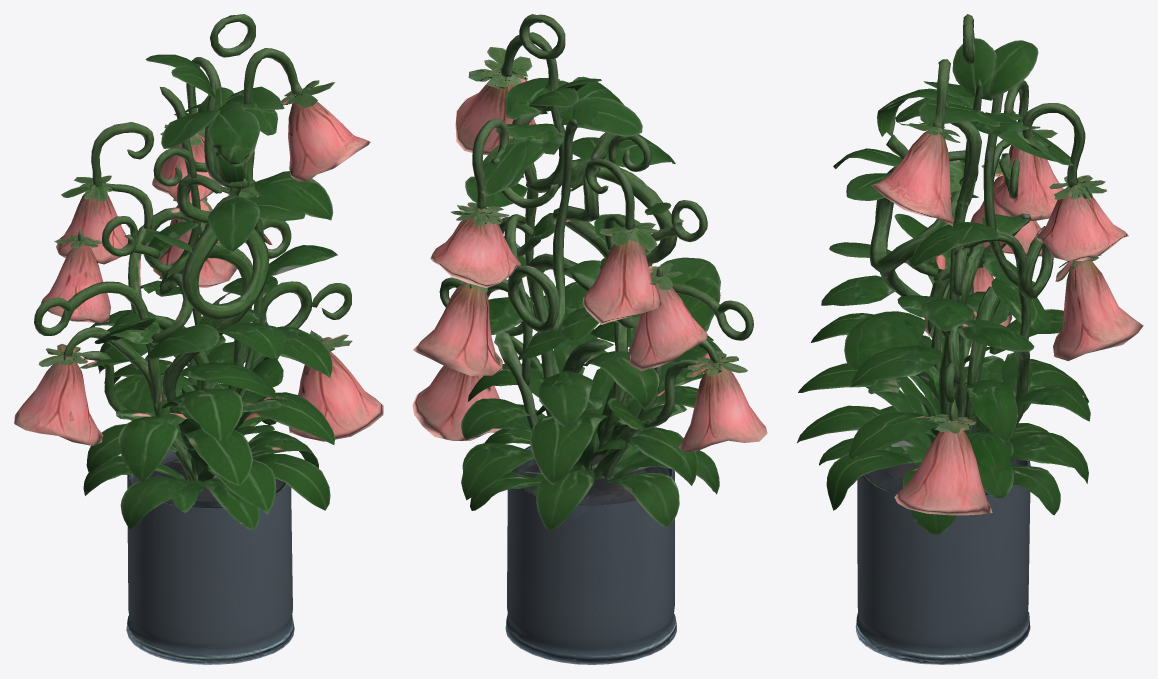
File: kytka.glb
3 views of the same model, side by side, from view 1: azimuth 30°, elevation 25°; view 2: azimuth 150°, elevation 25°; view 3: azimuth 270°, elevation 25° (orthographic). The views are drawn at different scales.
Size of the model in its own units: 0.6098 by 1 by 0.5024.
1 material, 1 textured.
